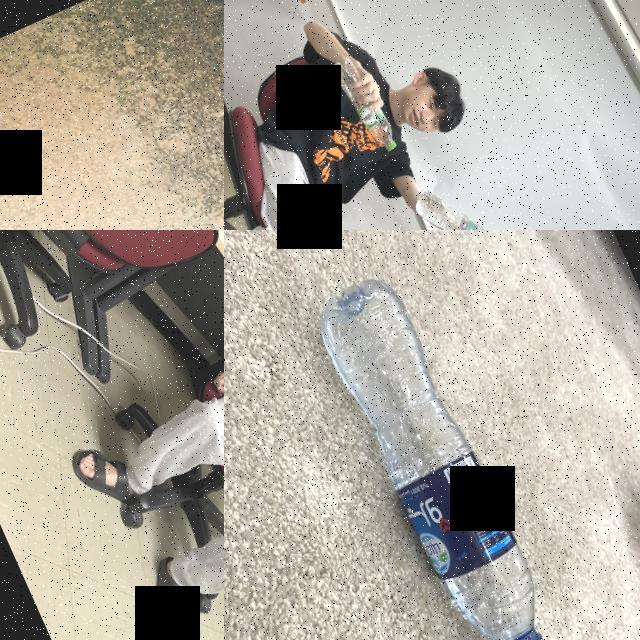bottle: (299, 261, 577, 640), (55, 114, 224, 230), (328, 52, 399, 160), (408, 171, 501, 230)
